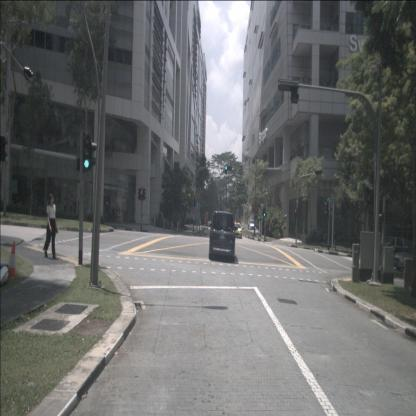cone: (6, 242, 18, 284)
